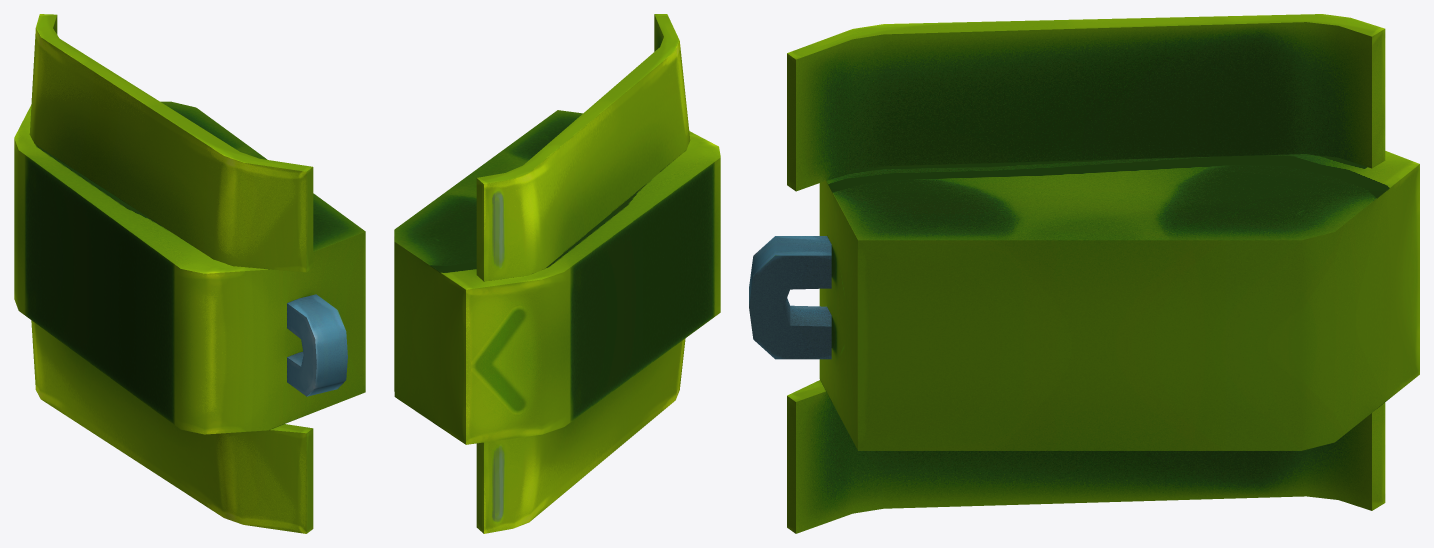
The model's file is tank_colliders.fbx.
3 views of the same model, side by side, from view 1: azimuth 30°, elevation 25°; view 2: azimuth 150°, elevation 25°; view 3: azimuth 270°, elevation 25° (orthographic). The views are drawn at different scales.
Parts seen in each view (by area): view 1: polySurface12, polySurface14, polySurface15; view 2: polySurface12, polySurface14, polySurface15; view 3: polySurface12, polySurface14, polySurface15.
Boxes of the visible parts, <box> form: polySurface12: <box>14,101,365,434</box>; polySurface14: <box>29,14,313,272</box>; polySurface15: <box>31,320,313,533</box>; polySurface12: <box>394,110,720,444</box>; polySurface14: <box>476,14,690,281</box>; polySurface15: <box>476,338,685,533</box>; polySurface12: <box>749,151,1419,450</box>; polySurface14: <box>787,14,1385,191</box>; polySurface15: <box>787,380,1385,533</box>.
Bounding box in the file's own units: 0.3438 × 0.6725 × 0.8622.
